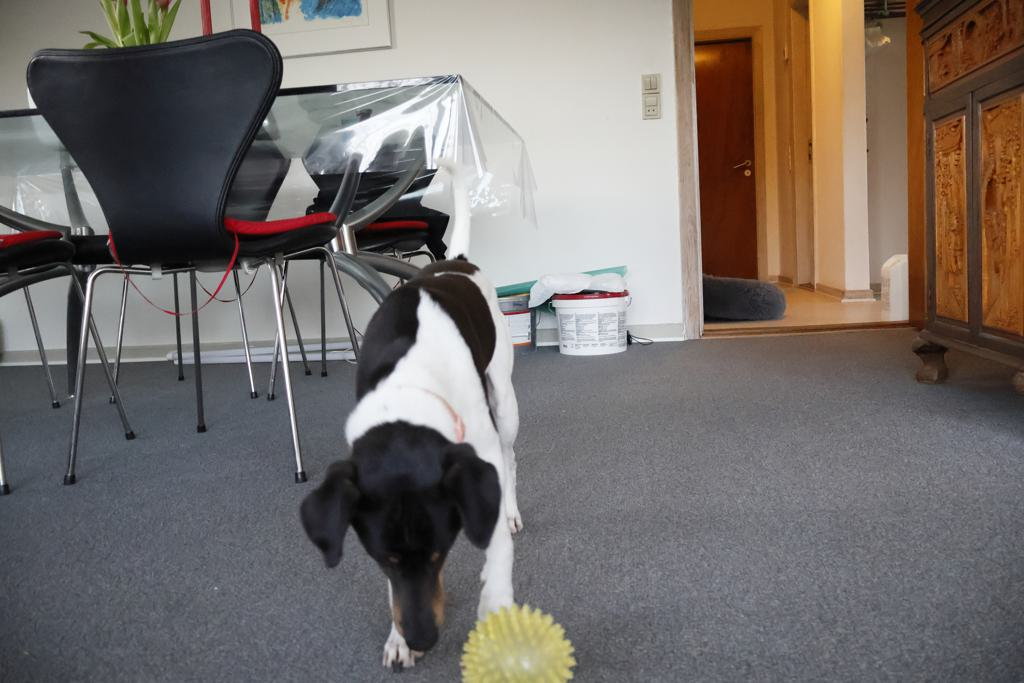Dog: (292, 147, 544, 683)
